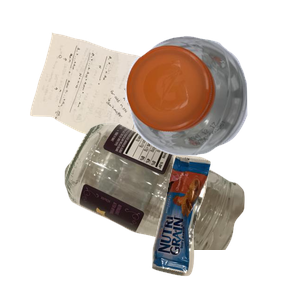glass: (62, 120, 300, 300)
paper: (27, 30, 203, 178)
plastic: (123, 33, 300, 181)
trash: (149, 152, 300, 300)
